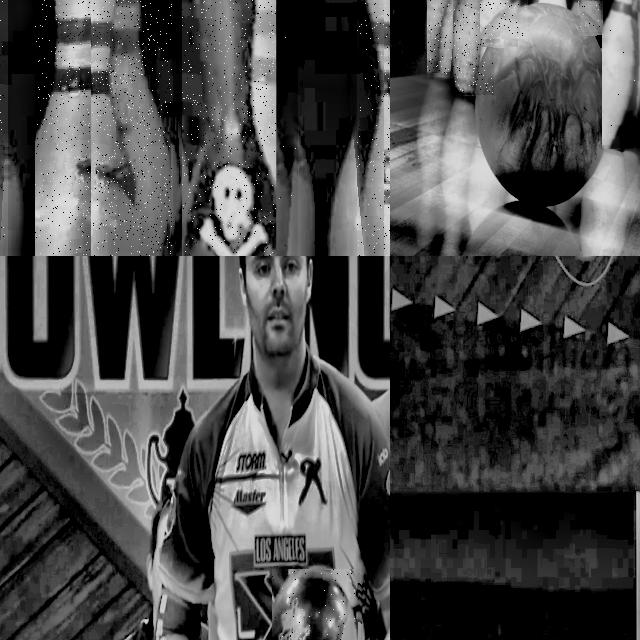bowling-ball: (476, 0, 612, 205), (273, 570, 359, 640)
bowling-pins: (182, 0, 276, 256), (36, 0, 121, 256), (236, 0, 296, 256), (114, 0, 172, 256), (603, 0, 639, 147), (453, 0, 491, 94), (427, 0, 452, 74), (482, 0, 517, 39), (579, 0, 602, 30)
